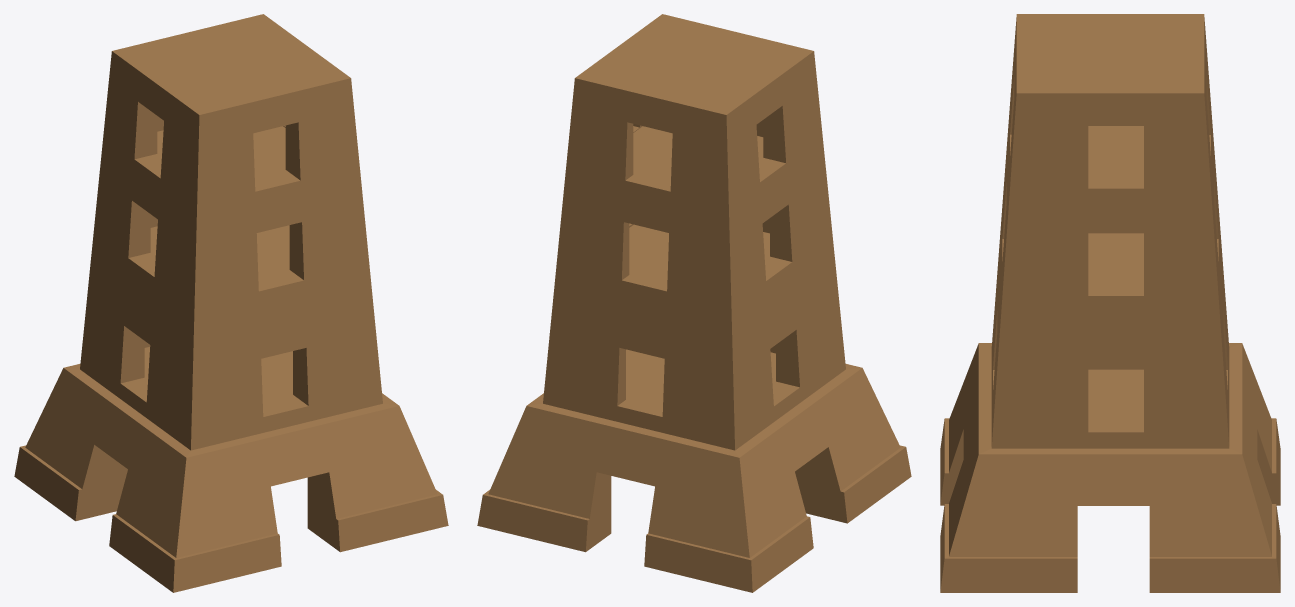
Rendered from MBZIRC_tower.dae.
3 renders of one model, left to right at view 1: azimuth 30°, elevation 25°; view 2: azimuth 150°, elevation 25°; view 3: azimuth 270°, elevation 25°, orthographic. The views are drawn at different scales.
Visible parts, largest first — view 1: Cube; view 2: Cube; view 3: Cube.
Boxes of the visible parts, x1,y1,x2,y2 form: Cube: (14, 14, 448, 592); Cube: (477, 14, 911, 592); Cube: (940, 14, 1280, 592).
Size of the model in its own units: 7.05 by 7.05 by 10.69.
